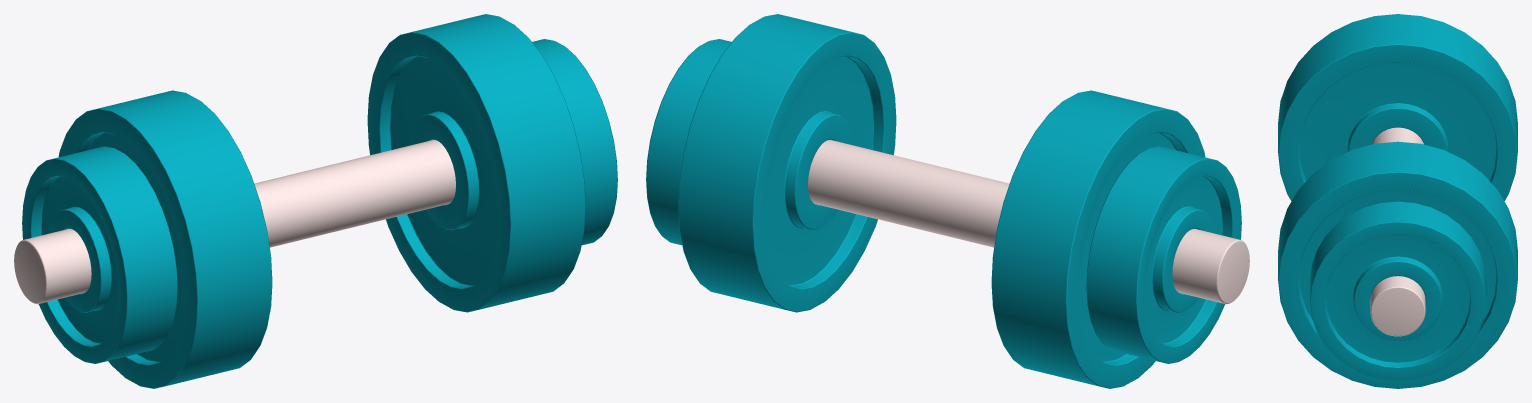
Rendered from Public_18_Barbell_2.glb.
3 renders of one model, left to right at view 1: azimuth 30°, elevation 25°; view 2: azimuth 150°, elevation 25°; view 3: azimuth 270°, elevation 25°, orthographic. The views are drawn at different scales.
Visible parts, largest first — view 1: Public_18_Barbell_2; view 2: Public_18_Barbell_2; view 3: Public_18_Barbell_2.
Part boxes in pixels (left/top/right/bottom): Public_18_Barbell_2: left=14, top=14, right=617, bottom=388; Public_18_Barbell_2: left=646, top=14, right=1249, bottom=388; Public_18_Barbell_2: left=1278, top=14, right=1517, bottom=388.
Size of the model in its own units: 2.01 by 0.8897 by 0.8897.
Materials: 1 (1 with a texture image).
